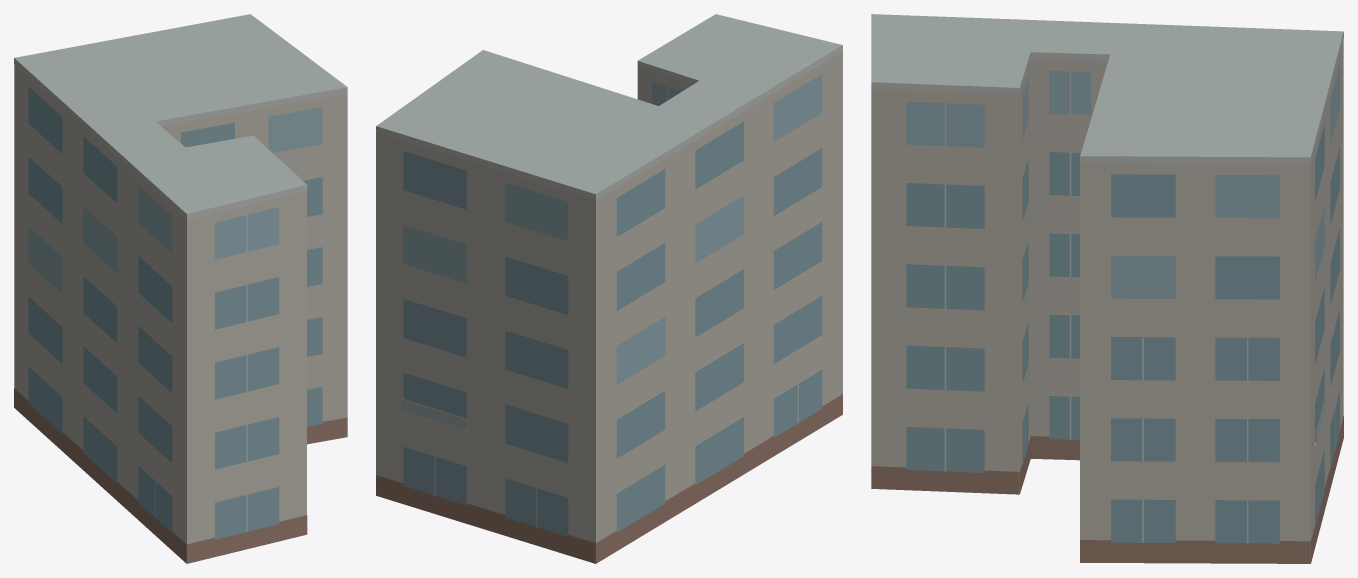
The model's file is survey-upis-32466913.glb.
3 renders of one model, left to right at view 1: azimuth 30°, elevation 25°; view 2: azimuth 150°, elevation 25°; view 3: azimuth 270°, elevation 25°, orthographic. The views are drawn at different scales.
Parts seen in each view (by area): view 1: survey-upis-32466913.tmp; view 2: survey-upis-32466913.tmp; view 3: survey-upis-32466913.tmp.
Boxes of the visible parts, <box> form: survey-upis-32466913.tmp: <box>14,14,347,563</box>; survey-upis-32466913.tmp: <box>376,14,842,563</box>; survey-upis-32466913.tmp: <box>871,14,1343,563</box>.
Bounding box in the file's own units: 10.83 × 14.31 × 15.08.
